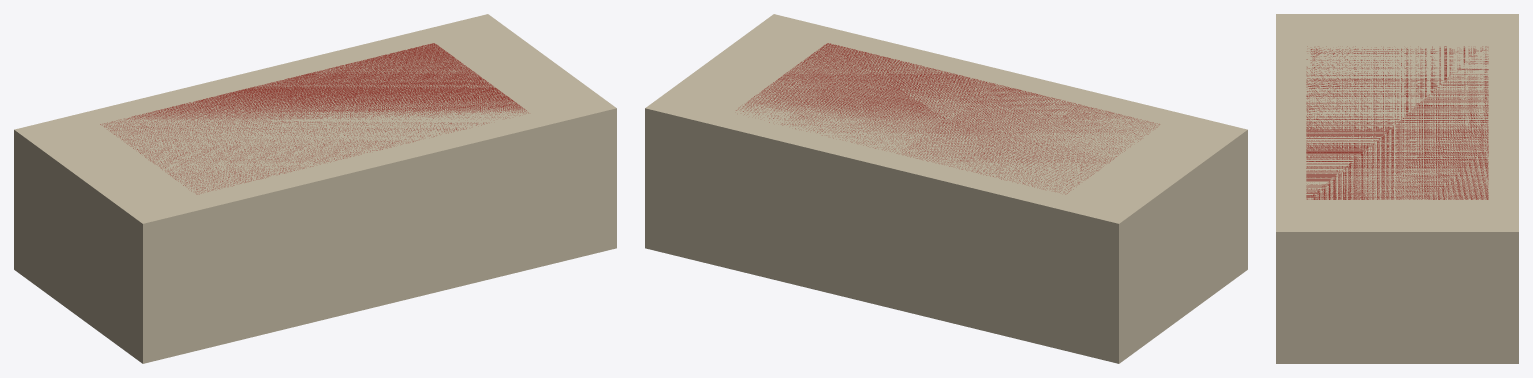
The model's file is snack-cake-pack.glb.
The picture shows the model from 3 angles, left to right: view 1: azimuth 30°, elevation 25°; view 2: azimuth 150°, elevation 25°; view 3: azimuth 270°, elevation 25°; orthographic projection. The views are drawn at different scales.
Visible parts, largest first — view 1: paper, accent-warm; view 2: paper, accent-warm; view 3: paper, accent-warm.
Boxes of the visible parts, x1,y1,x2,y2 form: paper: (14,14,616,363); accent-warm: (100,43,528,194); paper: (645,14,1247,363); accent-warm: (736,43,1159,194); paper: (1276,14,1518,363); accent-warm: (1306,46,1488,199).
Bounding box in the file's own units: 0.17 × 0.048 × 0.08.
